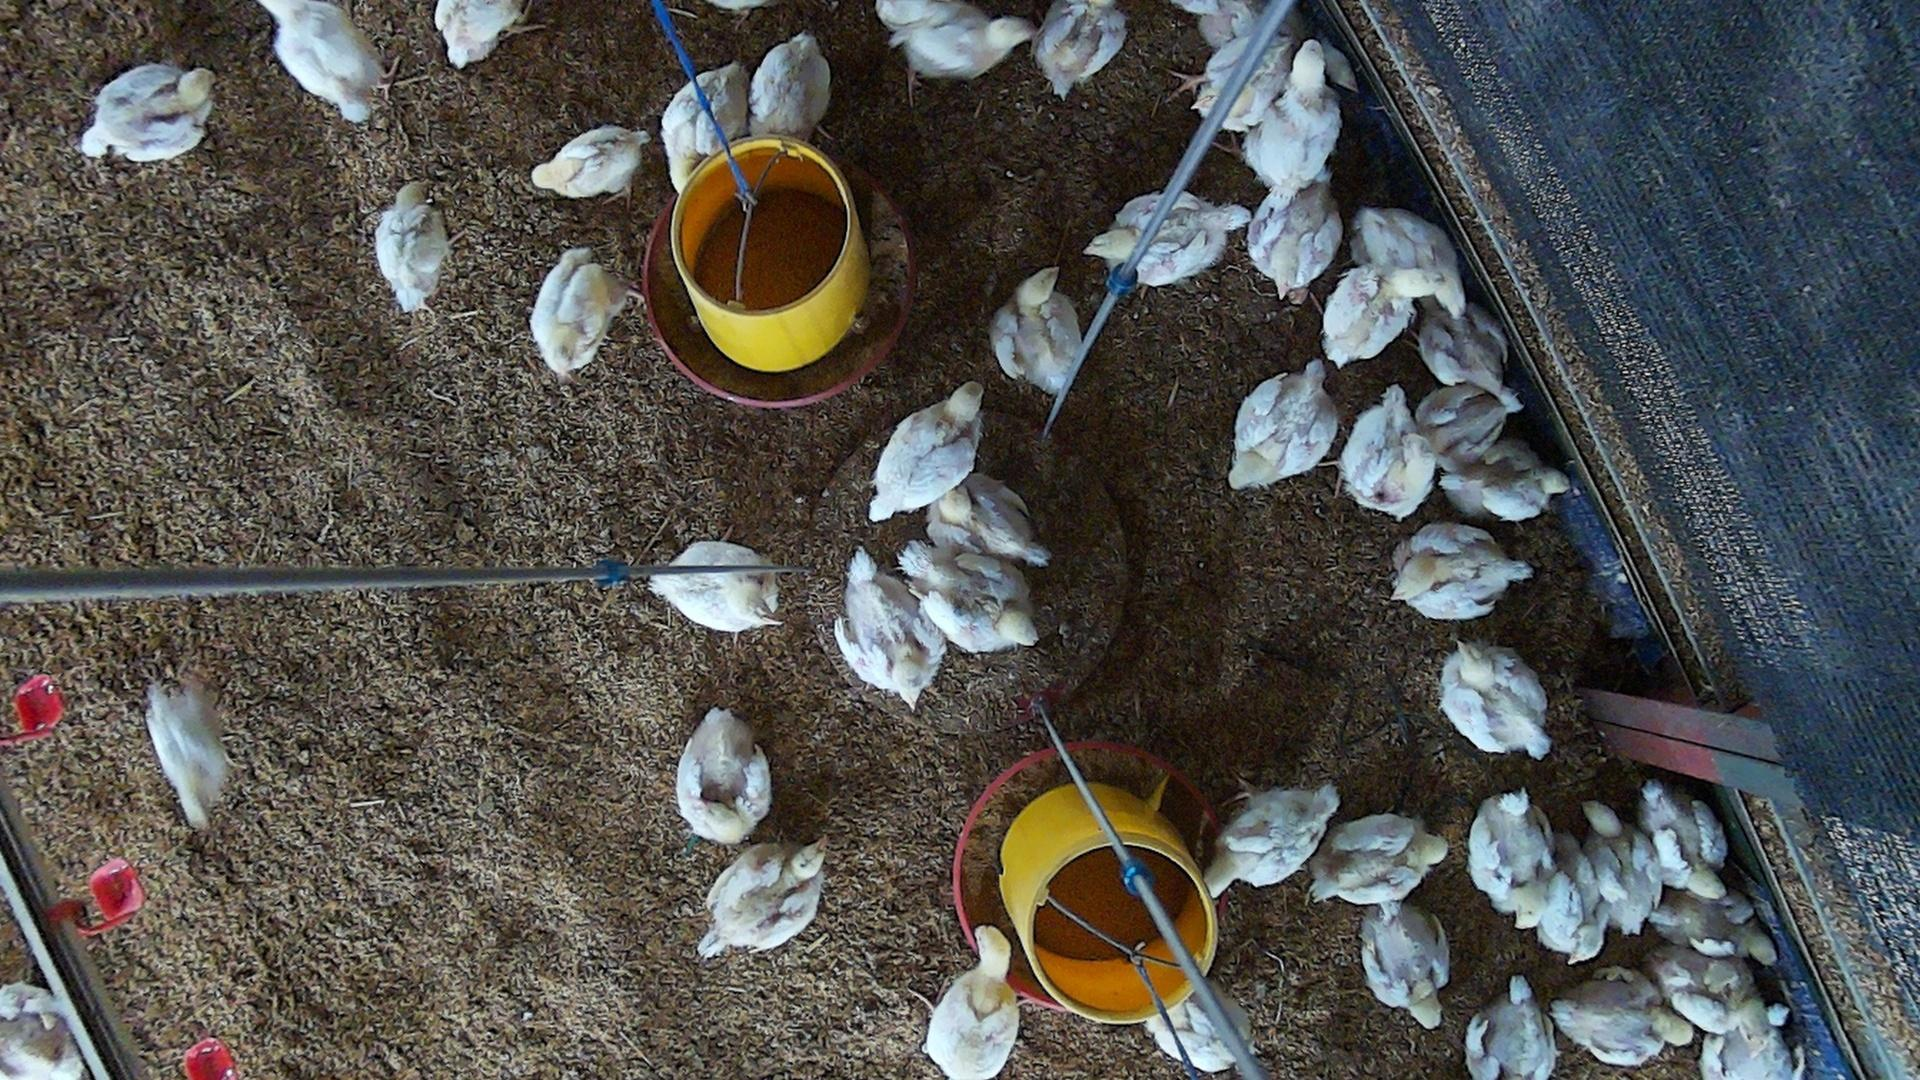ayam_broiler: (1241, 36, 1348, 204), (833, 549, 943, 705), (990, 264, 1095, 419), (1081, 190, 1249, 286), (869, 381, 982, 518), (261, 0, 388, 121), (899, 545, 1040, 653), (698, 840, 827, 956), (1230, 357, 1345, 487), (530, 249, 641, 382), (926, 923, 1019, 1080), (1208, 783, 1341, 889), (1393, 521, 1534, 618), (1552, 969, 1693, 1067), (1439, 638, 1551, 757), (1338, 386, 1439, 518), (1350, 206, 1466, 319), (79, 63, 214, 160), (1309, 812, 1449, 905), (1658, 985, 1792, 1080), (678, 709, 771, 844), (877, 1, 1034, 78), (149, 678, 228, 828), (663, 65, 757, 190), (1247, 175, 1342, 298), (1360, 901, 1451, 1027), (923, 475, 1050, 566), (1437, 435, 1565, 522), (646, 551, 781, 632), (1469, 791, 1553, 919), (1146, 978, 1258, 1072), (903, 575, 1038, 653), (1418, 313, 1518, 414), (1465, 973, 1560, 1080), (1642, 781, 1729, 897), (375, 181, 450, 313), (1538, 827, 1609, 961), (1323, 265, 1419, 364), (749, 30, 831, 141), (1588, 819, 1665, 932), (531, 124, 650, 196), (1038, 0, 1126, 96), (435, 0, 522, 69)
